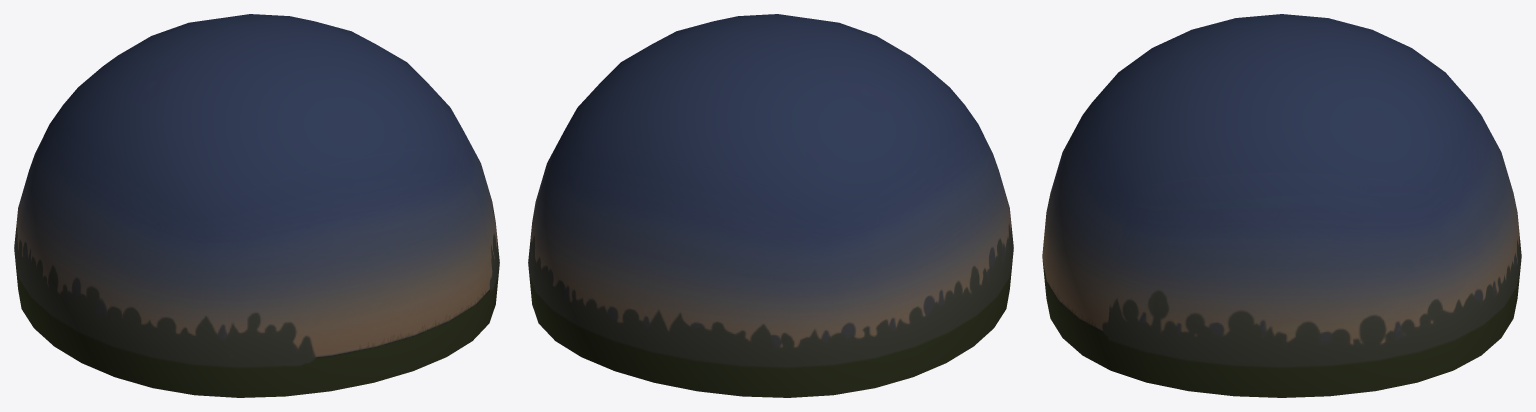
The model's file is Skybox2.gltf.
3 renders of one model, left to right at view 1: azimuth 30°, elevation 25°; view 2: azimuth 150°, elevation 25°; view 3: azimuth 270°, elevation 25°, orthographic.
Visible parts, largest first — view 1: Skybox2; view 2: Skybox2; view 3: Skybox2.
Boxes of the visible parts, x1,y1,x2,y2 form: Skybox2: [14, 14, 499, 397]; Skybox2: [528, 14, 1013, 397]; Skybox2: [1042, 14, 1521, 397].
Bounding box in the file's own units: 124 × 74.08 × 124.
Materials: 1 (1 with a texture image).
